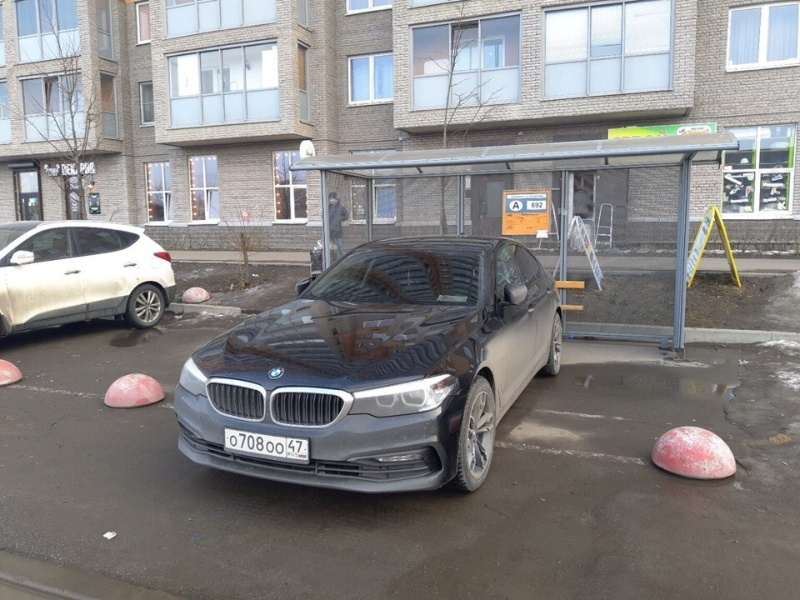car: (174, 237, 563, 495), (1, 220, 175, 341)
person: (323, 191, 348, 259)
plate: (225, 428, 309, 470)
